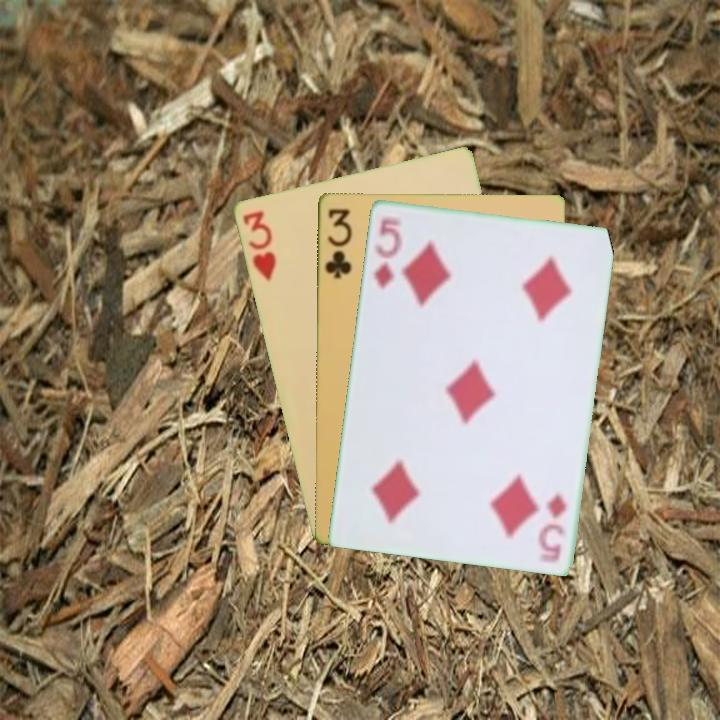3c: (320, 205, 354, 281)
3h: (238, 206, 279, 283)
5d: (370, 211, 404, 292), (536, 489, 570, 565)
